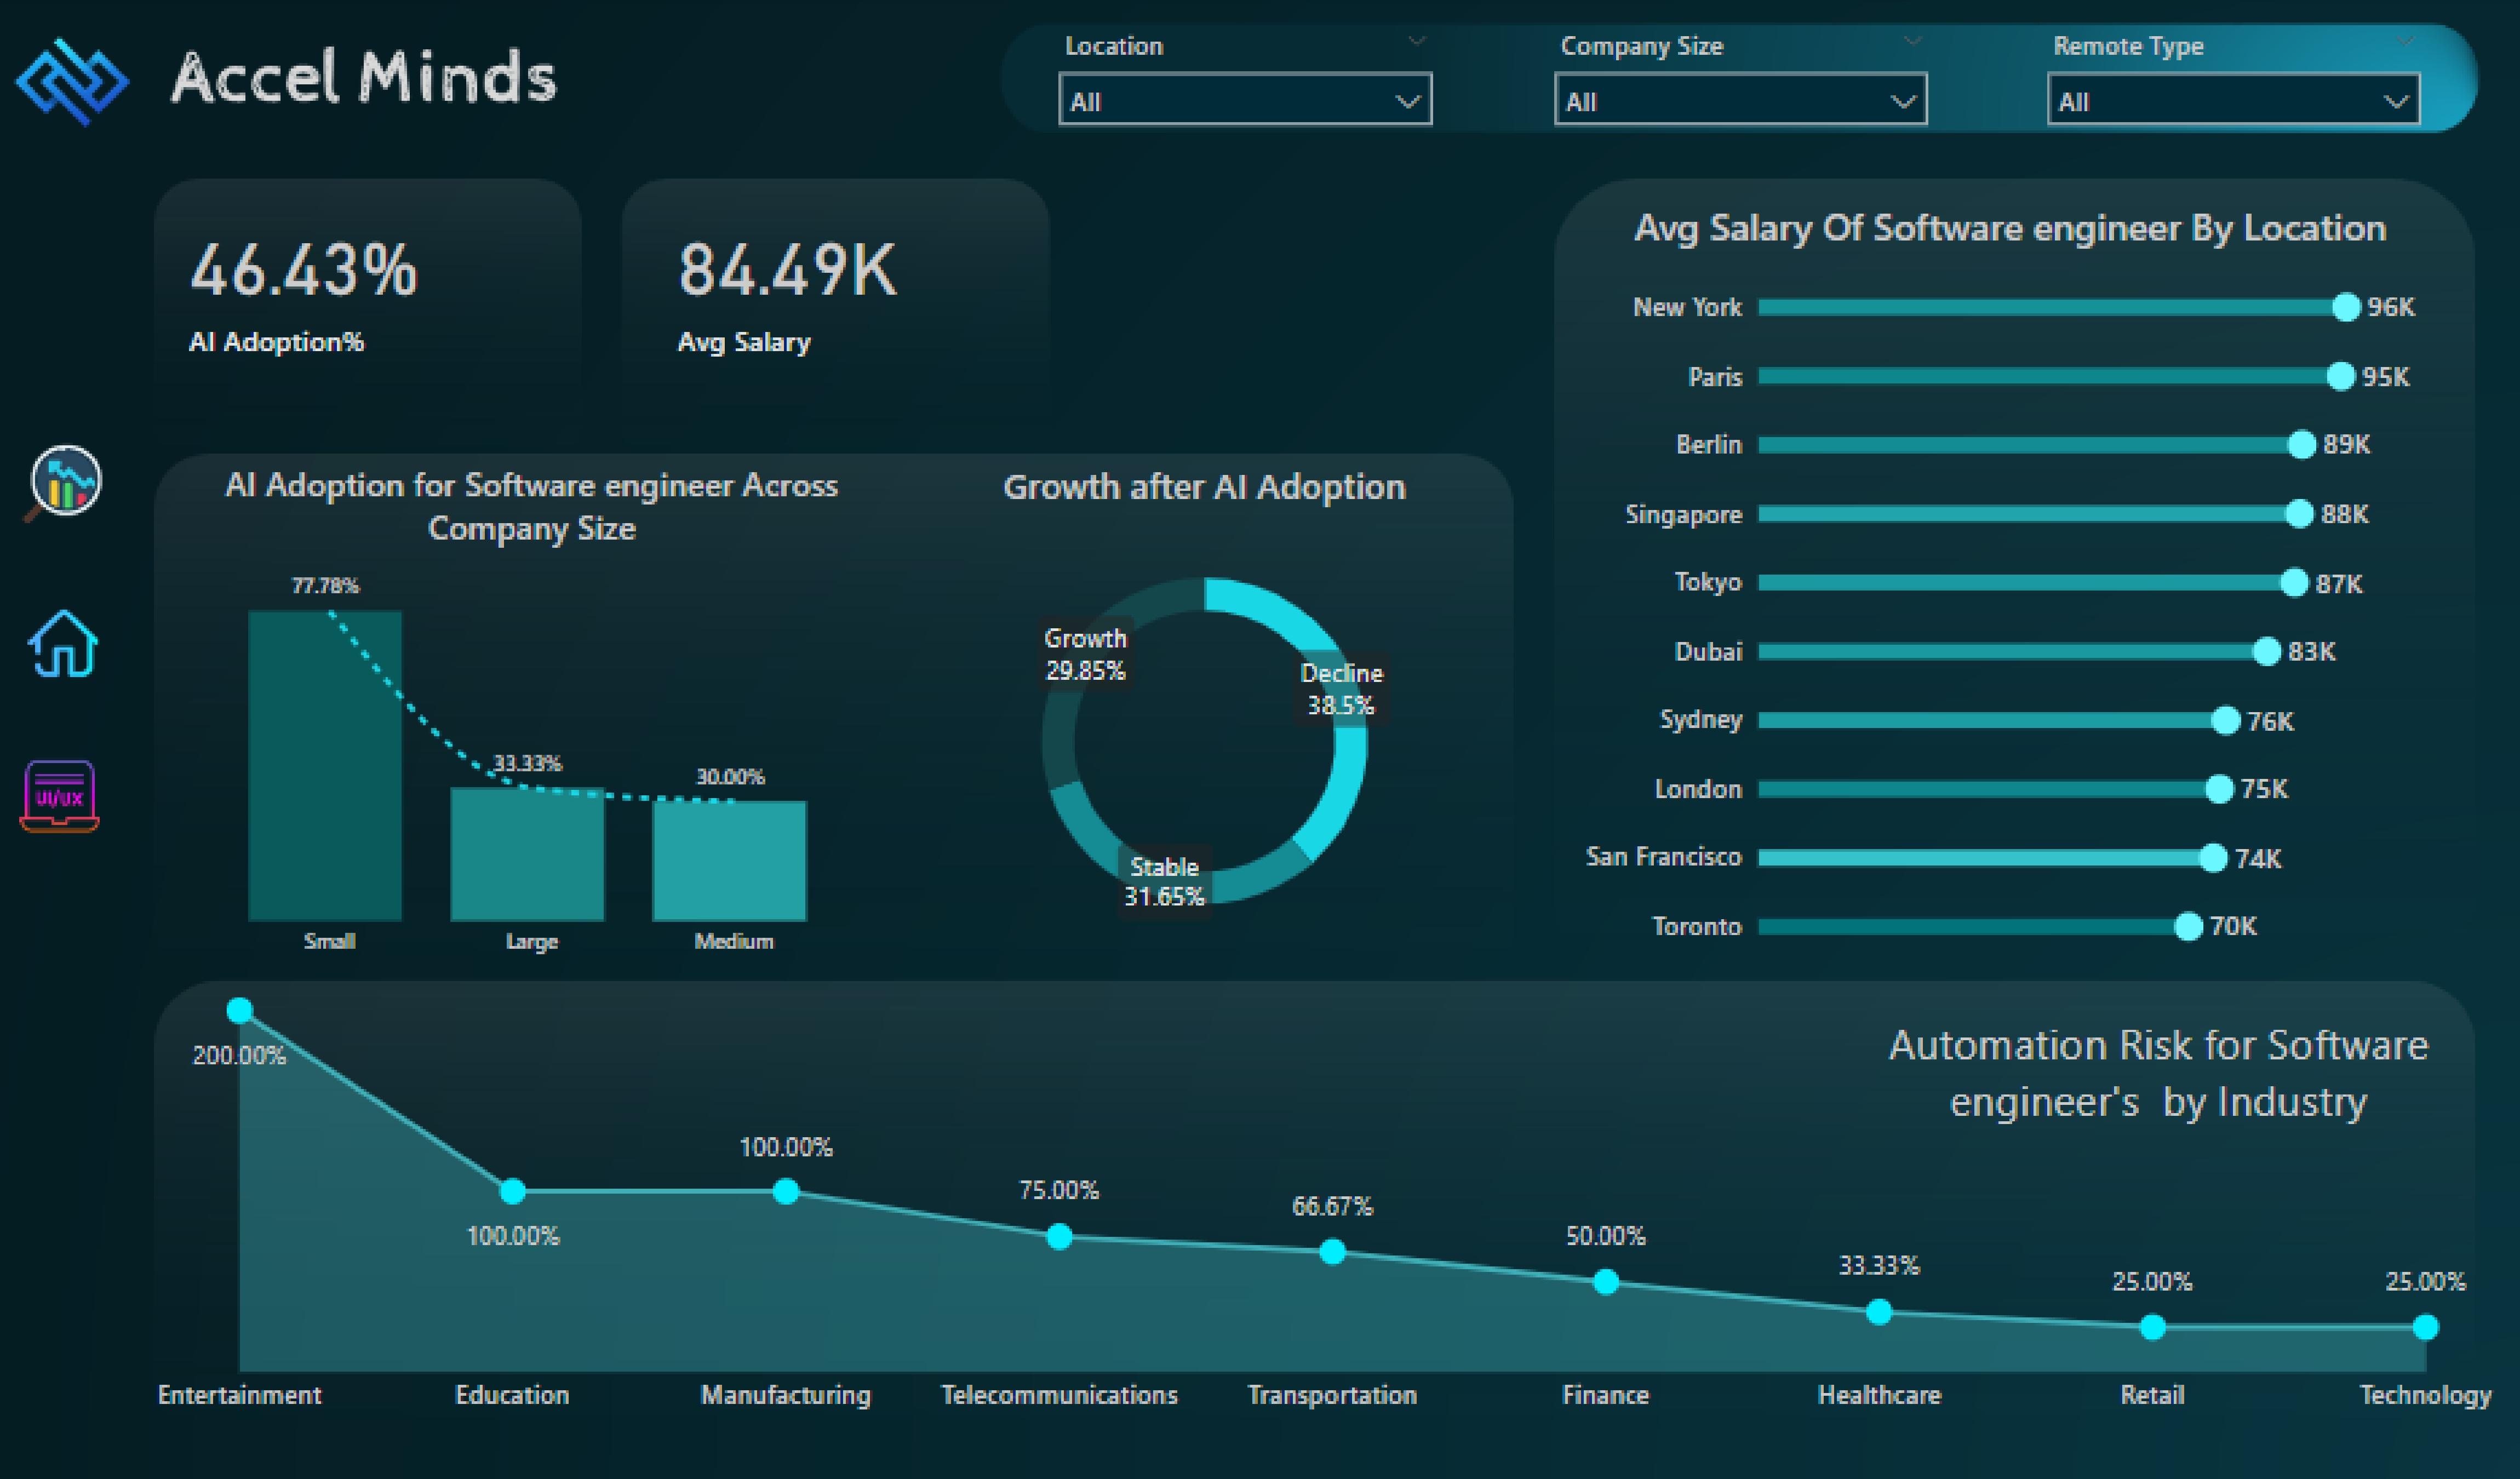

This screenshot's page, from the dashboard's own definition file:
{"tool":"powerbi","page":{"name":"Software engineer","canvas":[1471,864],"ordinal":2},"visuals":[{"type":"slicer","fields":{"Values":["ai_job_market_insights.Remote_Friendly"]},"box":[1177.8,13.6,233.8,71.4],"z":0,"group":"g1"},{"type":"lineStackedColumnComboChart","title":"AI Adoption for Software engineer Across Company Size","fields":{"Category":["ai_job_market_insights.Company_Size"],"Y":["Measure - Software engineer.AiAdoption_2 High%"],"Y2":["Measure - Software engineer.AiAdoption_2 High% For Line"]},"box":[100.3,268.7,428.6,294.2],"z":0},{"type":"slicer","fields":{"Values":["ai_job_market_insights.Company_Size"]},"box":[894.3,13.6,233.8,71.4],"z":1000,"group":"g1"},{"type":"barChart","title":"Avg Salary Of Software engineer By Location","fields":{"Category":["ai_job_market_insights.Location"],"Y":["Measure - Software engineer.Avg - Software engineer Salary"]},"box":[915,119.1,500,443.9],"z":1000},{"type":"slicer","fields":{"Values":["ai_job_market_insights.Location"]},"box":[608.9,13.6,233.8,71.4],"z":2000,"group":"g1"},{"type":"areaChart","fields":{"Category":["ai_job_market_insights.Industry"],"Y":["Measure - Software engineer.Automation - Risk - SE"]},"box":[78.2,563,1392.9,263.6],"z":2000},{"type":"donutChart","title":"Growth after AI Adoption","fields":{"Category":["ai_job_market_insights.Job_Growth_Projection"],"Y":["Measure - Software engineer.AiAdoption_Overall High%"]},"box":[517,268.7,369.1,294.2],"z":3000},{"type":"cardVisual","fields":{"Data":["Measure - Software engineer.AiAdoption_2 High%","Measure - Software engineer.Avg - Software engineer Salary"]},"box":[100.3,107.1,564.7,129.3],"z":4000},{"type":"textbox","box":[1085.1,581.7,330,86.7],"z":5000},{"type":"group","id":"g1","title":"Group 2","box":[608.9,13.6,802.8,71.4],"z":6000},{"type":"actionButton","box":[20.4,253.4,52.7,52.7],"z":7000},{"type":"actionButton","box":[18.7,350.4,52.7,52.7],"z":8000},{"type":"actionButton","box":[17,437.1,52.7,52.7],"z":9000}]}

Visuals, with their boxes in screenshot pixels (x1, y1, x2, y2), scaled from the page's 1471x864 canvas onto the 2520x1479 screenshot:
slicer - ai_job_market_insights.Remote_Friendly: (2018,23,2418,146)
"AI Adoption for Software engineer Across Company Size" lineStackedColumnComboChart: (172,460,906,964)
slicer - ai_job_market_insights.Company_Size: (1532,23,1933,146)
"Avg Salary Of Software engineer By Location" barChart: (1567,204,2424,964)
slicer - ai_job_market_insights.Location: (1043,23,1444,146)
areaChart - ai_job_market_insights.Industry x Measure - Software engineer.Automation - Risk - SE: (134,964,2519,1415)
"Growth after AI Adoption" donutChart: (886,460,1518,964)
cardVisual - Measure - Software engineer.AiAdoption_2 High% x Measure - Software engineer.Avg - Software engineer Salary: (172,184,1139,405)
textbox: (1859,996,2424,1144)
"Group 2" group: (1043,23,2419,146)
actionButton: (35,434,125,524)
actionButton: (32,600,122,690)
actionButton: (29,748,119,839)
